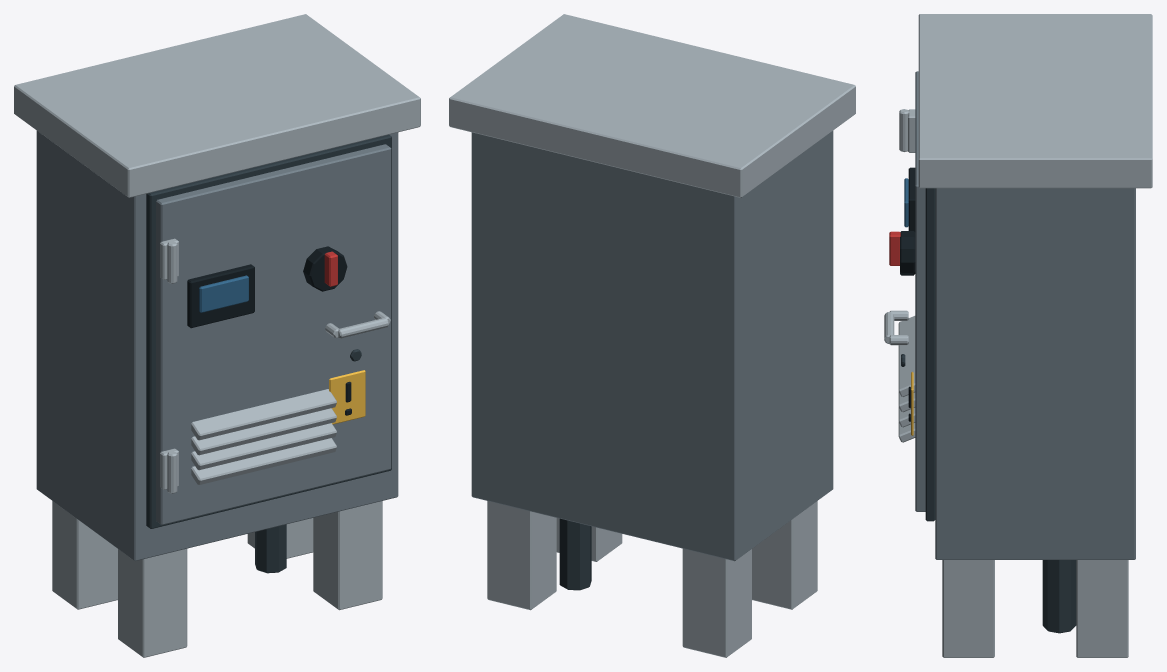
File: b05_generator_transfer_switch.glb
3 renders of one model, left to right at view 1: azimuth 30°, elevation 25°; view 2: azimuth 150°, elevation 25°; view 3: azimuth 270°, elevation 25°, orthographic.
Parts seen in each view (by area): view 1: b05_generator_transfer_switch; view 2: b05_generator_transfer_switch; view 3: b05_generator_transfer_switch.
Boxes of the visible parts, box(x1,y1,x2,y2) form: b05_generator_transfer_switch: box(14, 14, 420, 657); b05_generator_transfer_switch: box(449, 14, 855, 657); b05_generator_transfer_switch: box(884, 14, 1152, 657).
Size of the model in its own units: 0.72 by 1.18 by 0.5615.
